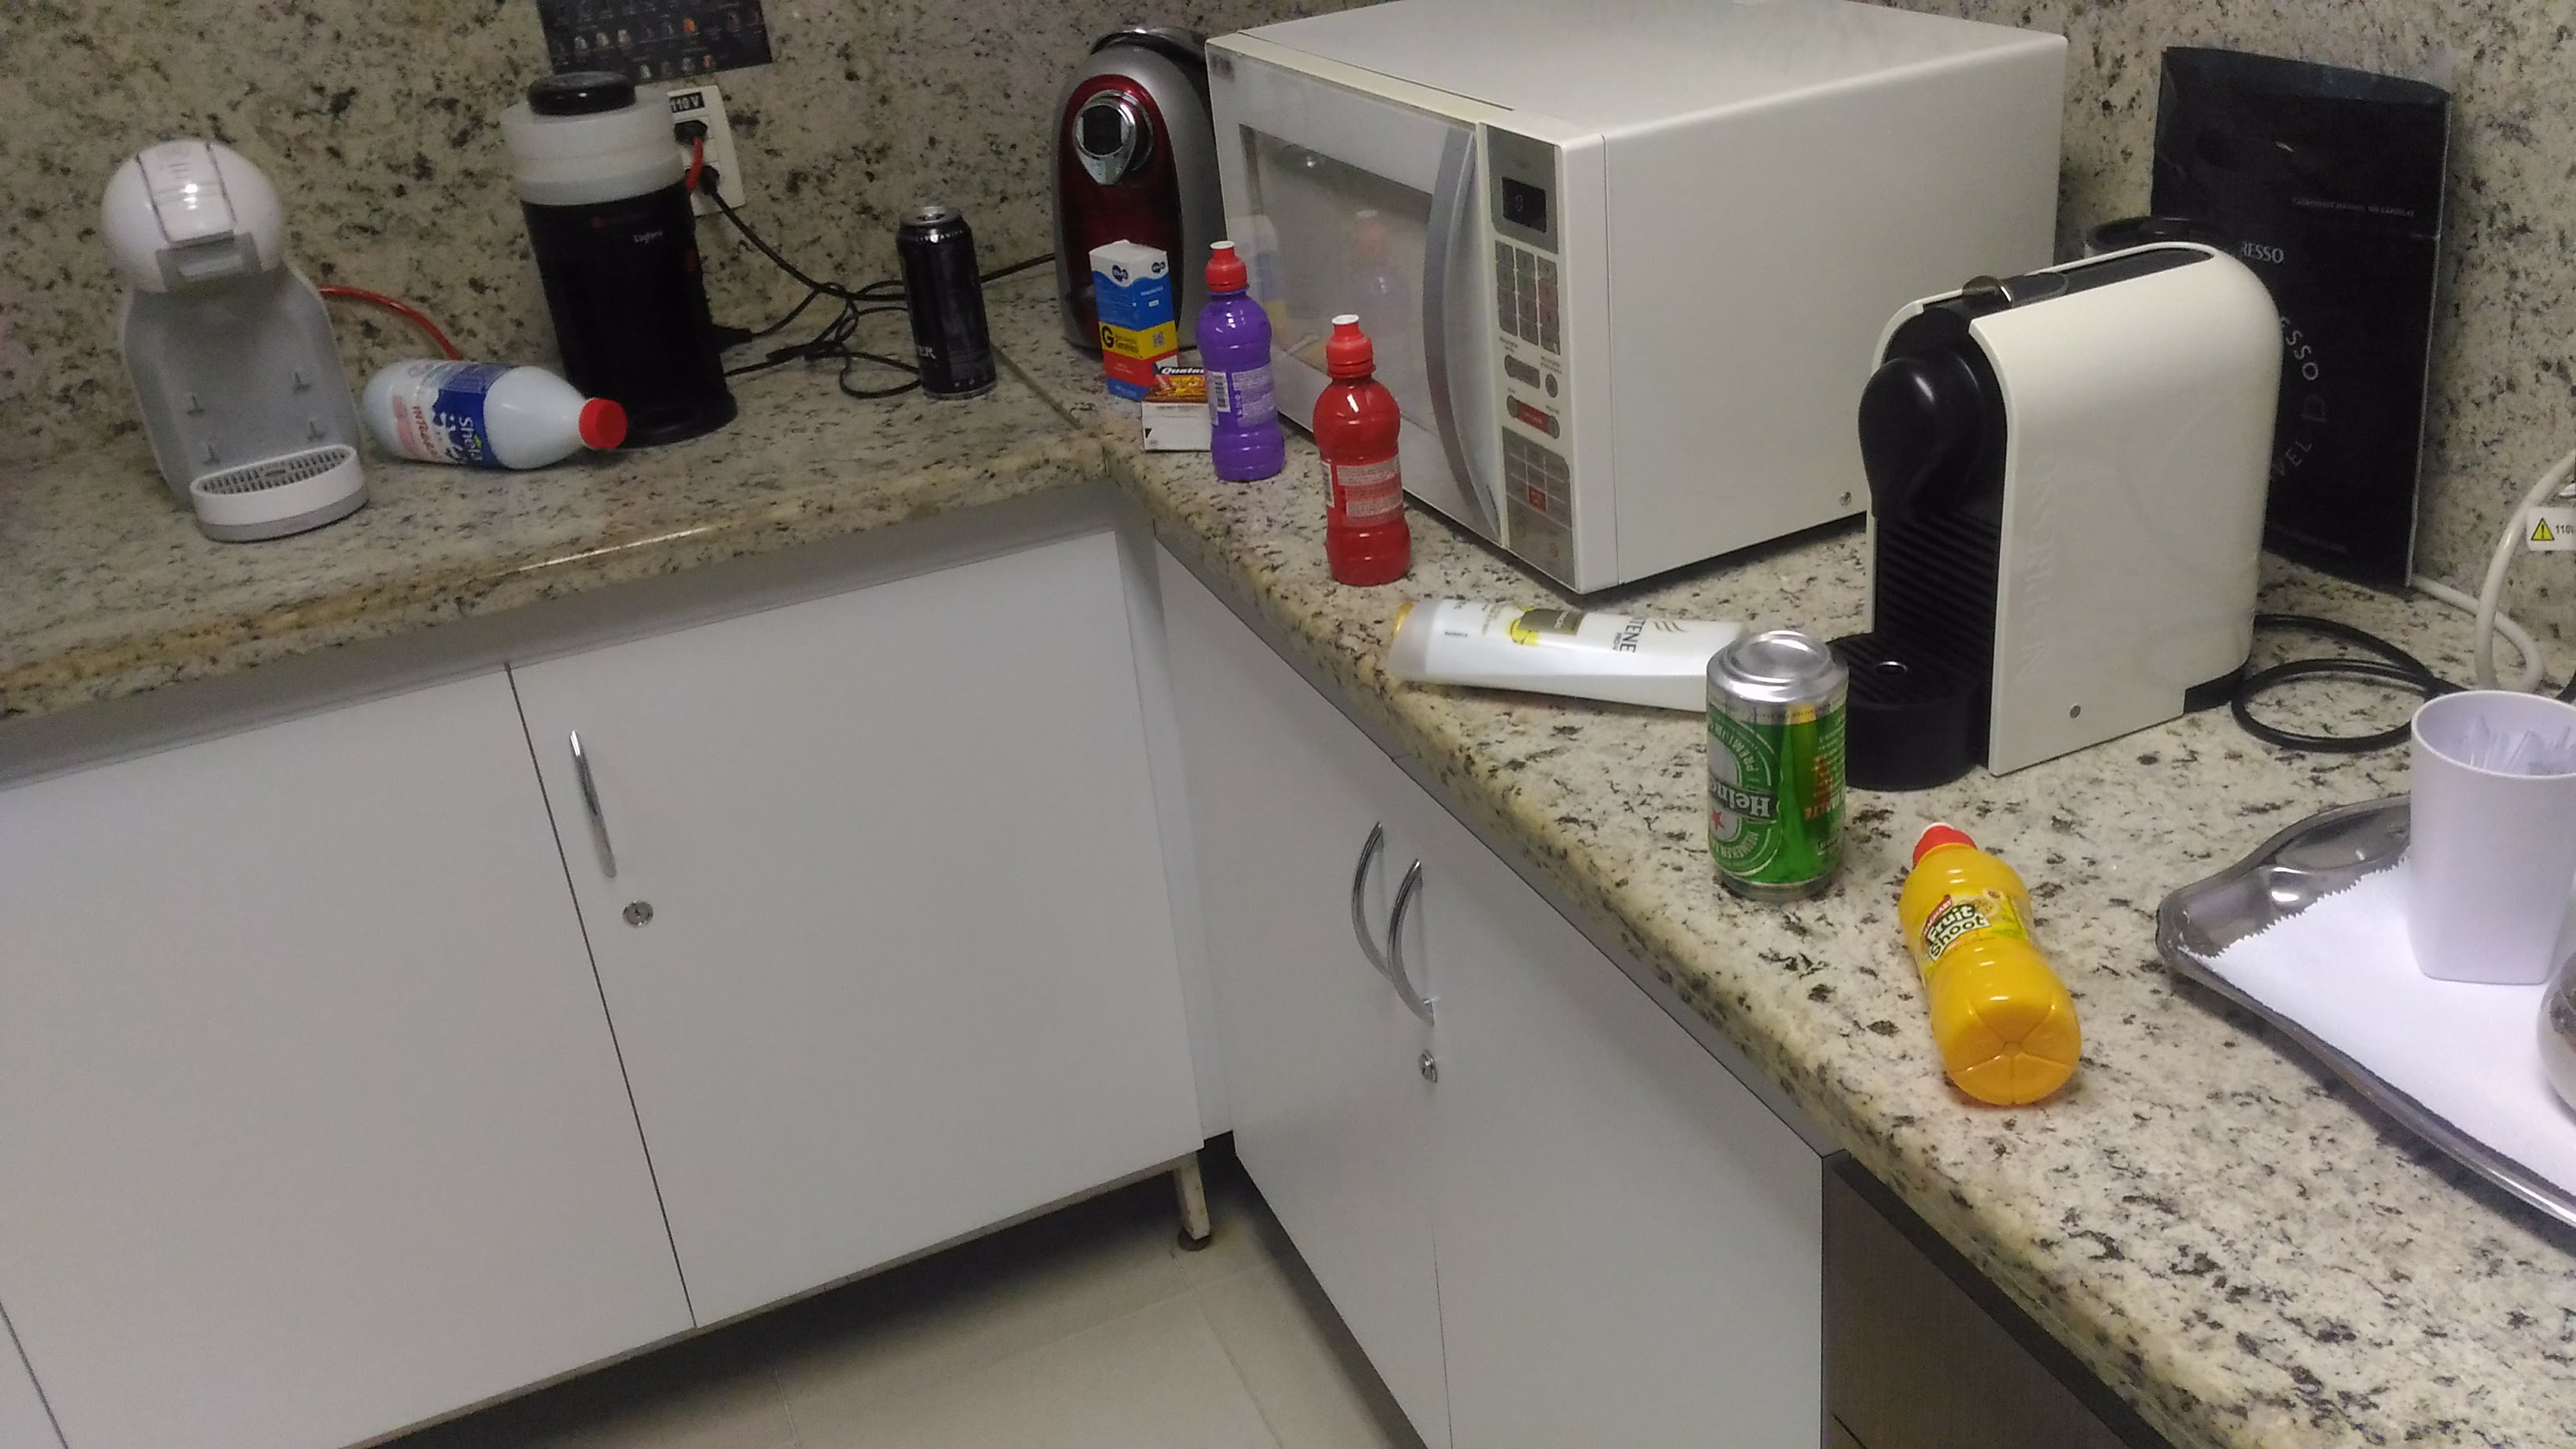heineken: (1695, 630, 1856, 899)
medicine: (1079, 230, 1187, 418)
milk_bottle: (361, 350, 648, 483)
monster: (885, 196, 1005, 400)
purple_juice: (1200, 239, 1283, 501)
red_juice: (1313, 304, 1424, 591)
shampoo: (1378, 600, 1736, 729)
yellow_juice: (1895, 819, 2102, 1111)
